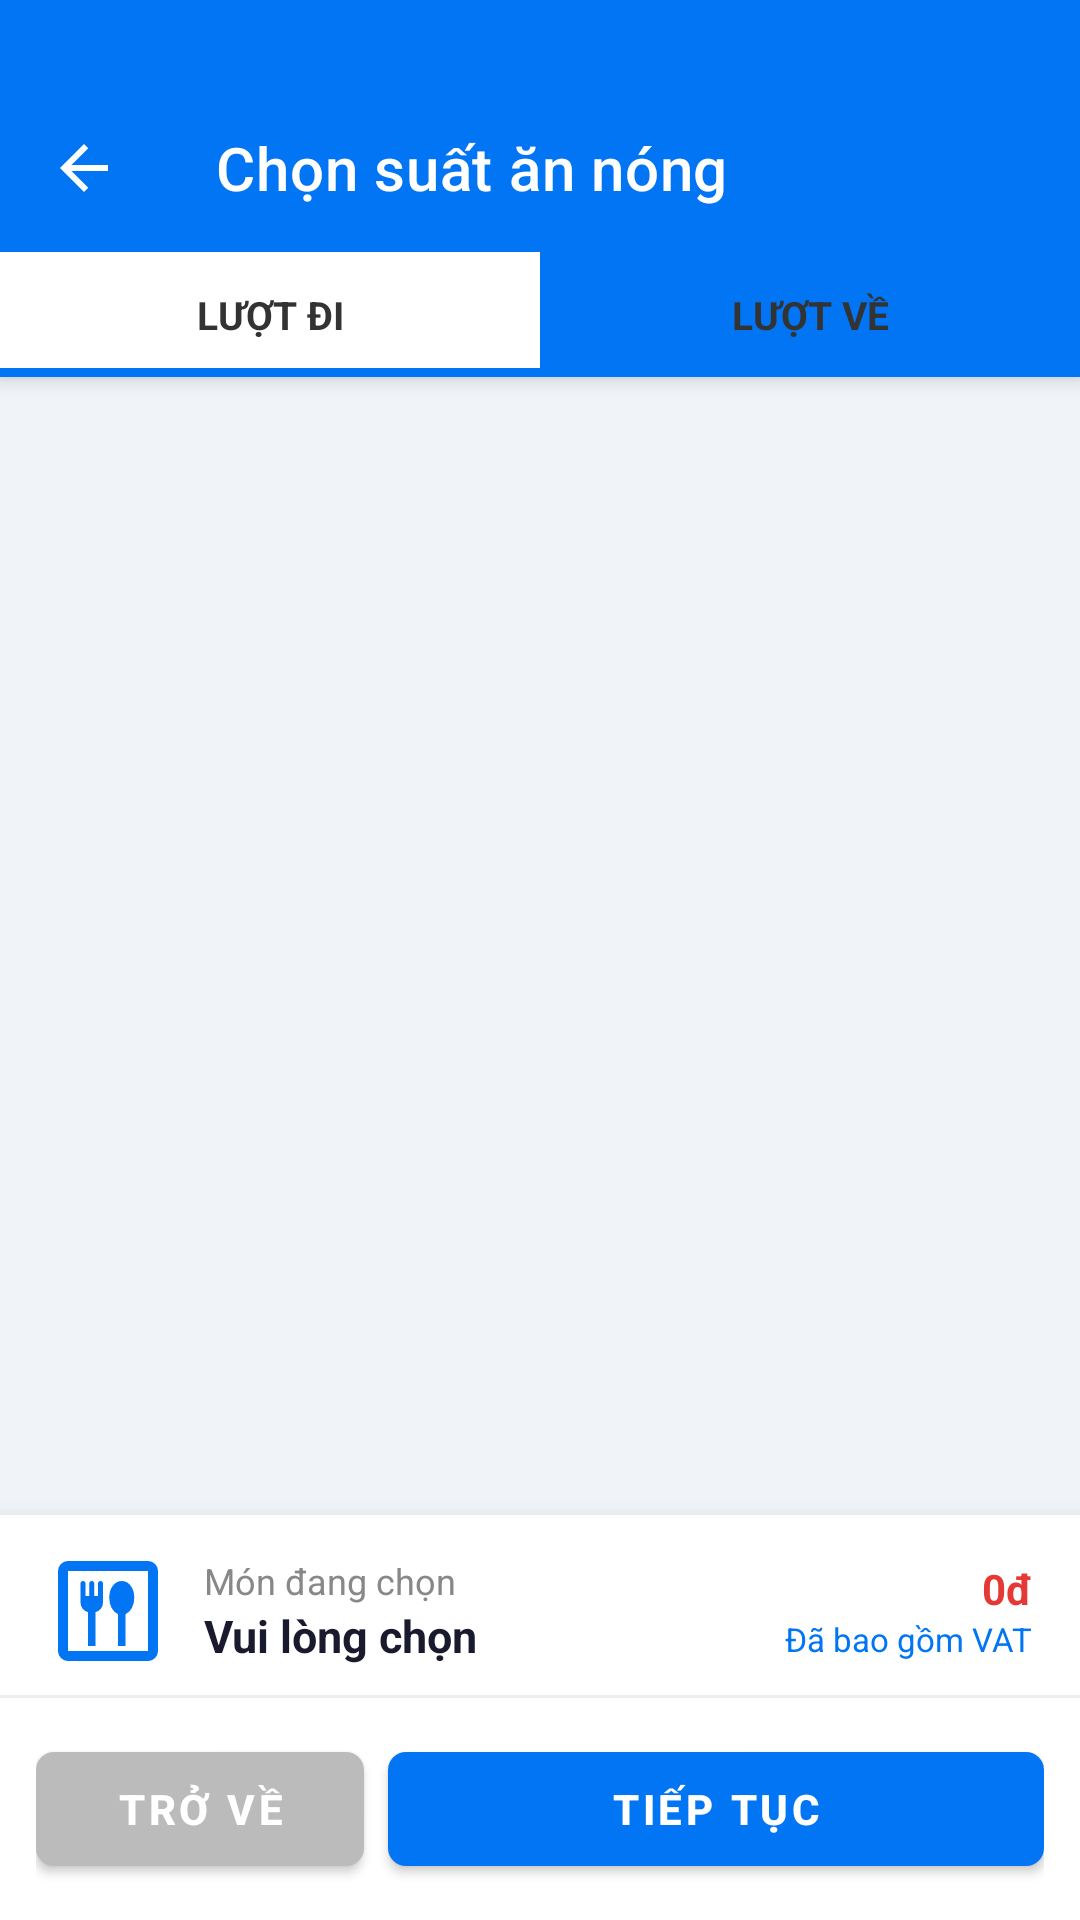

Screen size 1080px x 1920px. Icon name, then its center in pixels as [x,y]:
meal illustration: [108,1611]
